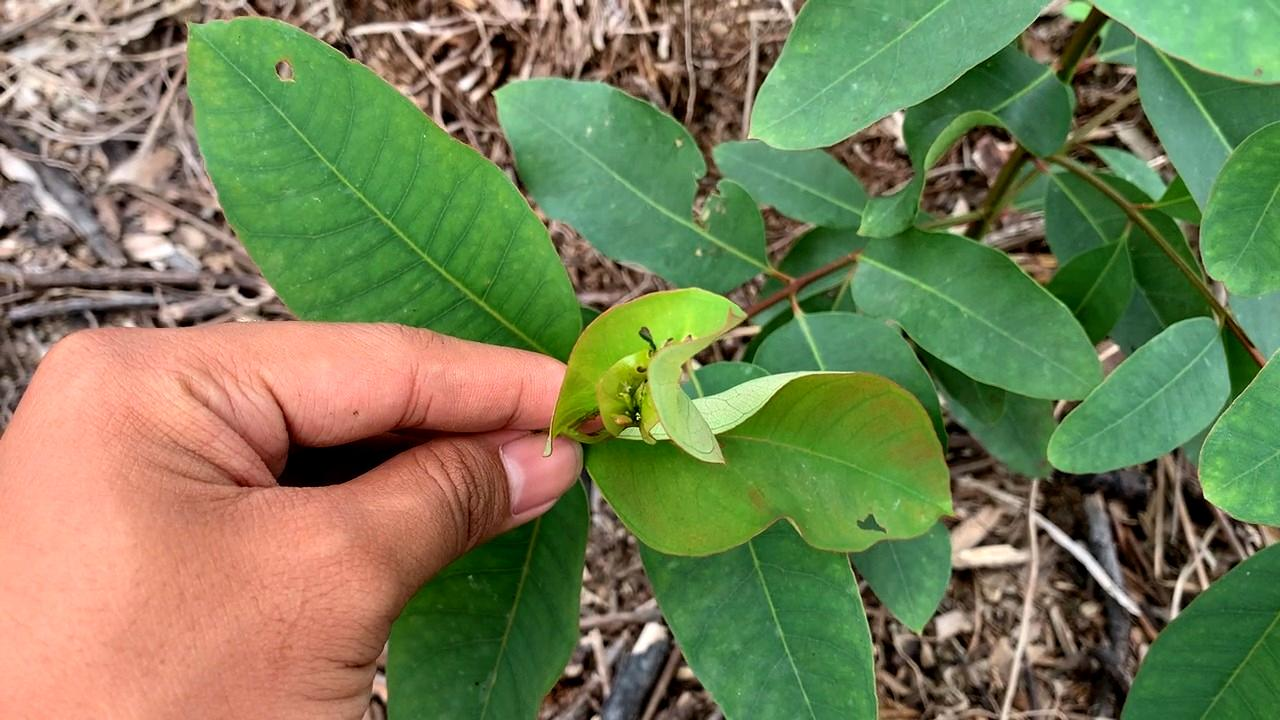Leaf Roller - Leaf: (529, 292, 772, 497)
